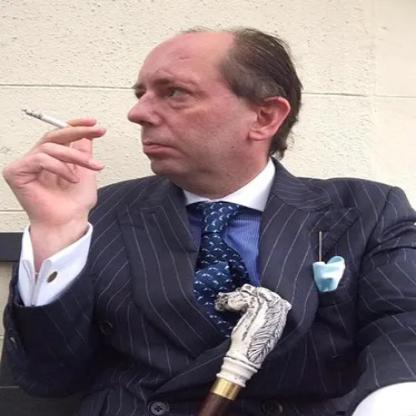cigarette: (19, 106, 67, 130)
person: (0, 7, 410, 415)
